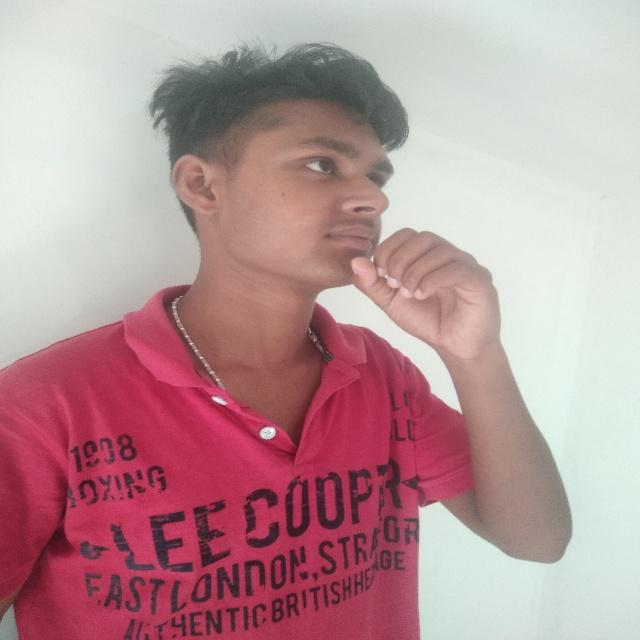Fist Mouth: (162, 39, 516, 389)
